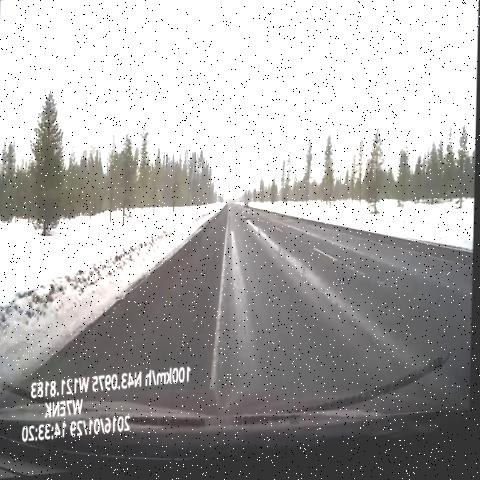pothole: (241, 219, 260, 234)
